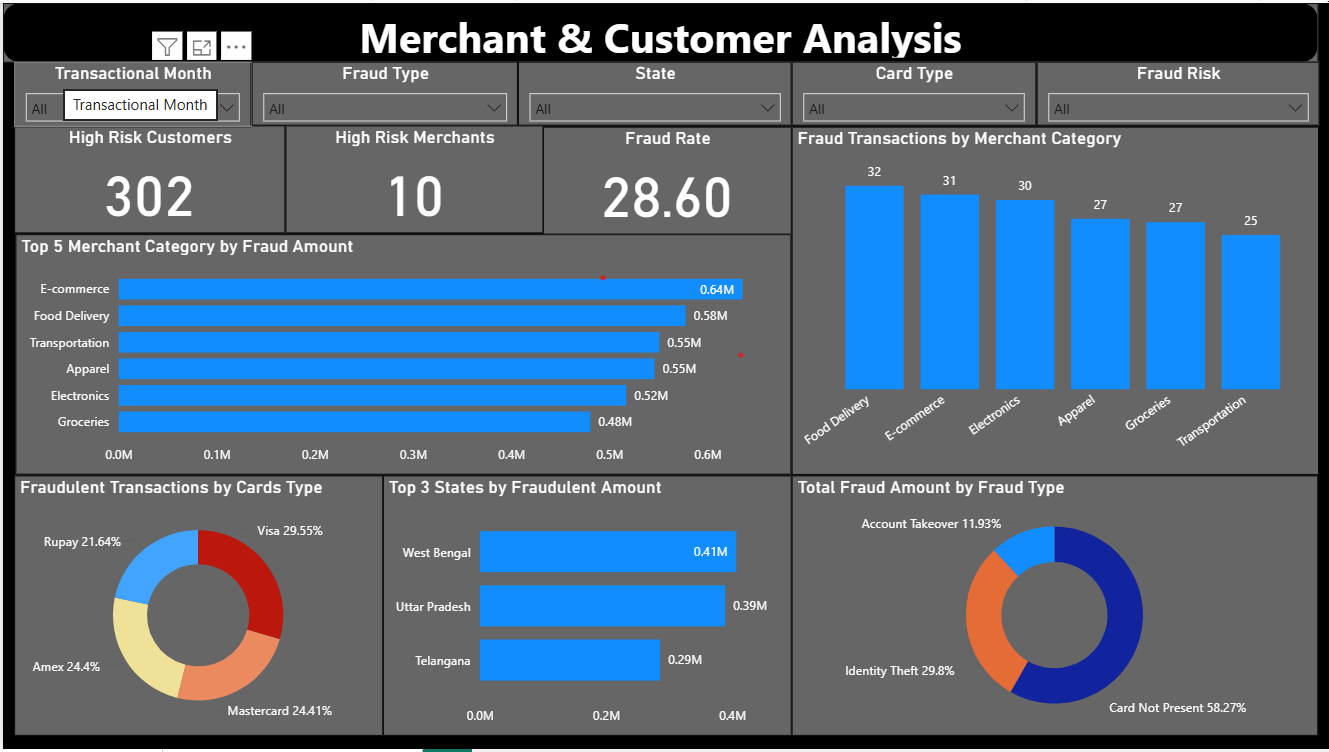

Layout of this report page (visuals, bound fields, positions):
{"tool":"powerbi","page":{"name":"Merchant & Customer Analysis","canvas":[1280,720],"ordinal":1},"visuals":[{"type":"card","title":"High Risk Customers","fields":{"Values":["Credit Card Fraud Risk Analysis.High Risk Customers"]},"box":[11.4,118.6,261.4,104.3],"z":0},{"type":"shape","box":[0,0,1269.6,57.7],"z":1000},{"type":"barChart","title":"Fraud Amount by Merchant Category","fields":{"Y":["Credit Card Fraud Risk Analysis.Total Fraudulent Amount"],"Category":["Credit Card Fraud Risk Analysis.Merchant Category"]},"box":[11.5,223.6,748.8,232.3],"z":2000},{"type":"slicer","title":"Transactional Month","fields":{"Values":["Credit Card Fraud Risk Analysis.Transaction Date.Variation.Date Hierarchy.Month"]},"box":[11.4,57.1,228.6,62.9],"z":3000},{"type":"columnChart","title":"Fraud Transactions by Merchant Category","fields":{"Category":["Credit Card Fraud Risk Analysis.Merchant Category"],"Y":["Credit Card Fraud Risk Analysis.Fraud_Rate"]},"box":[761.4,120,508.6,335.7],"z":4000},{"type":"slicer","title":"Fraud Type","fields":{"Values":["Credit Card Fraud Risk Analysis.Fraud Type"]},"box":[240,57.1,257.1,61.4],"z":5000},{"type":"slicer","title":"State","fields":{"Values":["Credit Card Fraud Risk Analysis.State"]},"box":[497.1,57.1,264.3,61.4],"z":6000},{"type":"slicer","title":"Card Type","fields":{"Values":["Credit Card Fraud Risk Analysis.Card Type"]},"box":[761.4,57.1,235.7,61.4],"z":7000},{"type":"slicer","title":"Fraud Risk","fields":{"Values":["Credit Card Fraud Risk Analysis.Fraud Risk"]},"box":[997.1,57.1,272.9,61.4],"z":8000},{"type":"card","title":"High Risk Merchants","fields":{"Values":["Credit Card Fraud Risk Analysis.High Risk Merchants"]},"box":[272.9,118.6,248.6,104.3],"z":9000},{"type":"card","title":"Fraud Rate","fields":{"Values":["Credit Card Fraud Risk Analysis.Fraud %"]},"box":[521.4,120,240,104.3],"z":10000},{"type":"donutChart","title":"Fraudulent Transactions by Cards Type","fields":{"Category":["Credit Card Fraud Risk Analysis.Card Type"],"Y":["Credit Card Fraud Risk Analysis.Fraud_Rate"]},"box":[11.4,455.7,355.7,251.4],"z":11000},{"type":"barChart","title":"Top 3 States by Fraudulent Amount","fields":{"Y":["Credit Card Fraud Risk Analysis.Total Fraudulent Amount"],"Category":["Credit Card Fraud Risk Analysis.State"]},"box":[367.1,455.7,394.3,251.4],"z":12000},{"type":"donutChart","title":"Fraud Type","fields":{"Category":["Credit Card Fraud Risk Analysis.Fraud Type"],"Y":["Credit Card Fraud Risk Analysis.Total_Transactions"]},"box":[761.8,455.9,507.9,251],"z":13000}]}

Visuals, with their boxes in screenshot pixels (x1, y1, x2, y2), scaled from the page's 1280x720 canvas onto the 1329x752 screenshot:
"High Risk Customers" card: box=[12, 124, 283, 233]
shape: box=[0, 0, 1318, 60]
"Fraud Amount by Merchant Category" barChart: box=[12, 234, 789, 476]
"Transactional Month" slicer: box=[12, 60, 249, 125]
"Fraud Transactions by Merchant Category" columnChart: box=[791, 125, 1319, 476]
"Fraud Type" slicer: box=[249, 60, 516, 124]
"State" slicer: box=[516, 60, 791, 124]
"Card Type" slicer: box=[791, 60, 1035, 124]
"Fraud Risk" slicer: box=[1035, 60, 1319, 124]
"High Risk Merchants" card: box=[283, 124, 541, 233]
"Fraud Rate" card: box=[541, 125, 791, 234]
"Fraudulent Transactions by Cards Type" donutChart: box=[12, 476, 381, 739]
"Top 3 States by Fraudulent Amount" barChart: box=[381, 476, 791, 739]
"Fraud Type" donutChart: box=[791, 476, 1318, 738]
